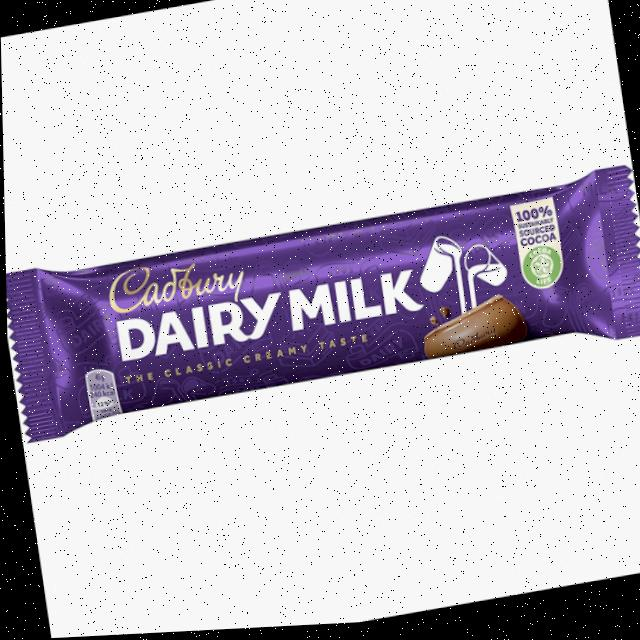cadbury: (3, 164, 640, 443)
